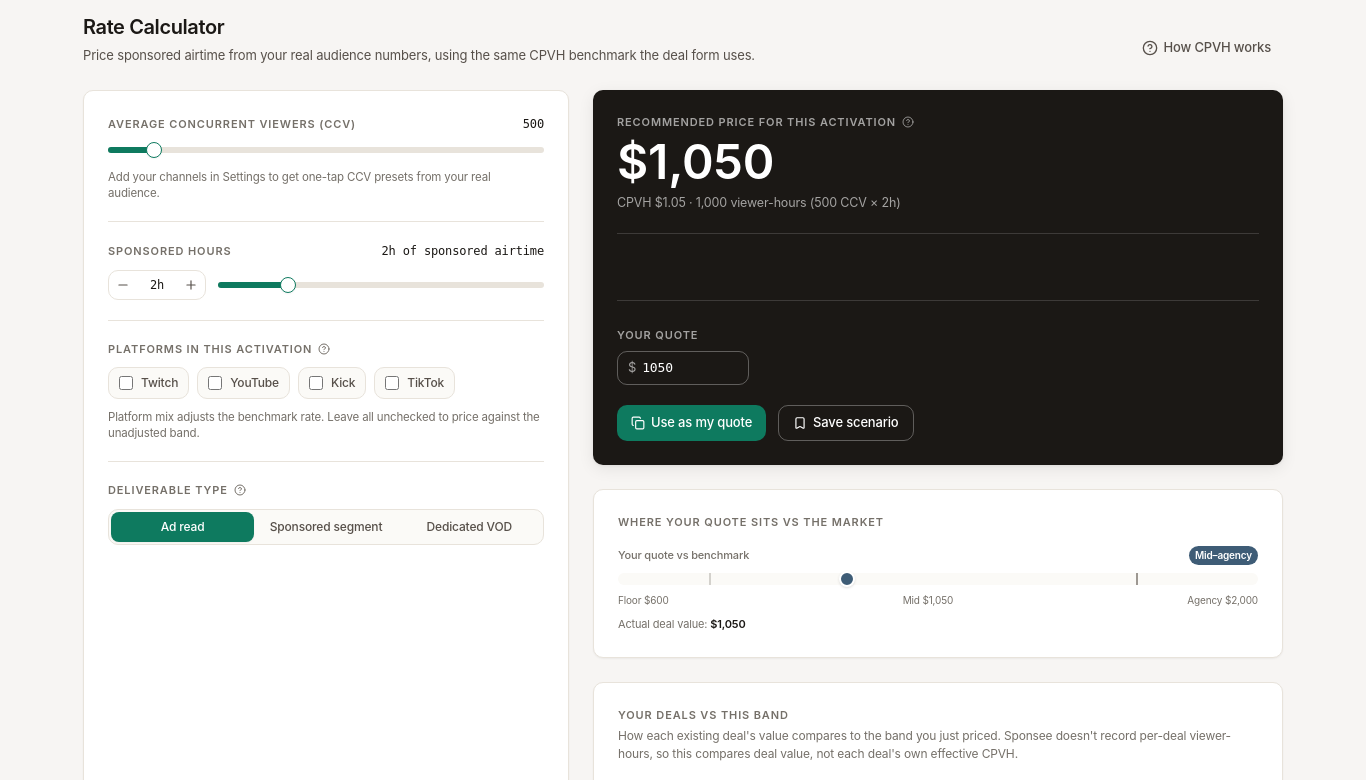
Test: Calculator quote › lets the creator override the quote and reset it back to the midpoint
Replace the text in the number field labelled "Your quote" with "450" at (690, 368), box [642,358,738,378]
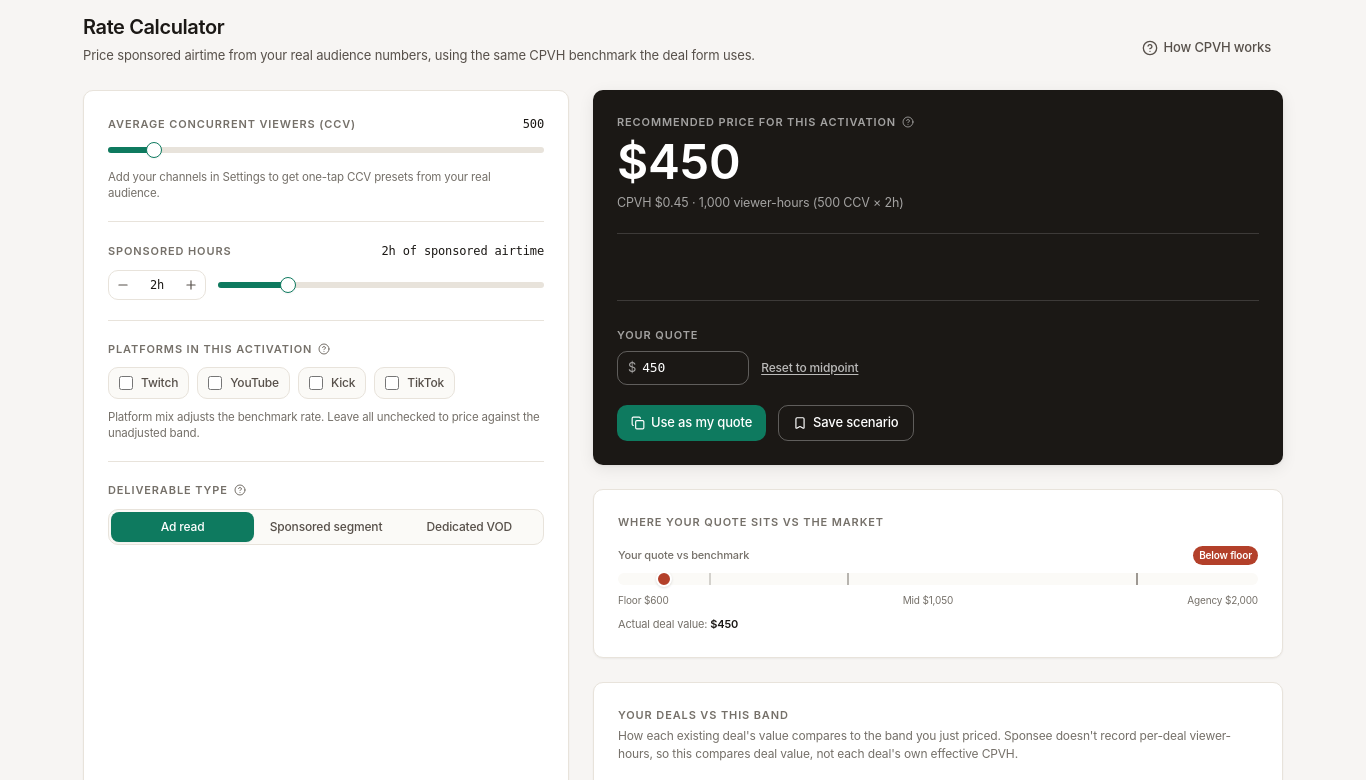
Expected: the message reads "$450", [617,132,741,191]
Click the button "Reset to midpoint" at (810, 368), box [761,359,858,377]
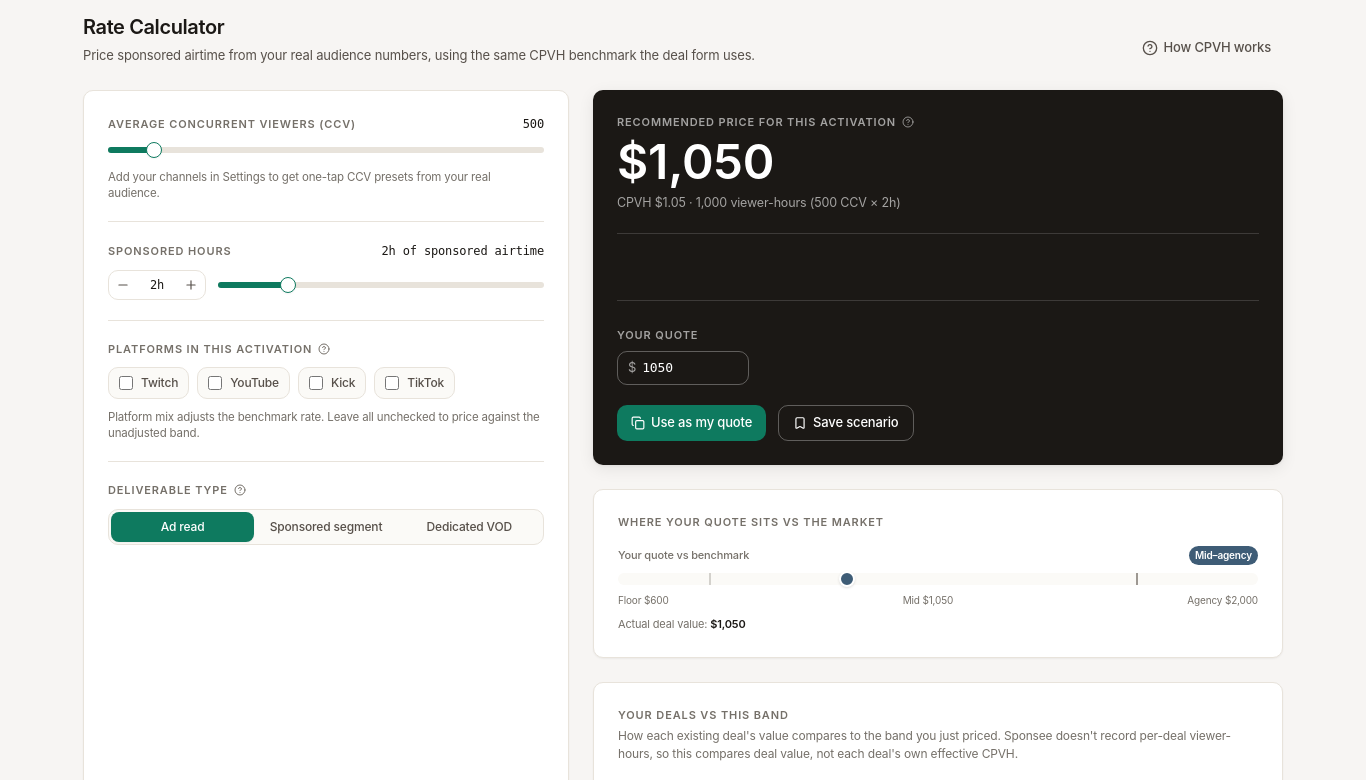
Expected: the number field labelled "Your quote" holds "1050", [642,358,738,378]
